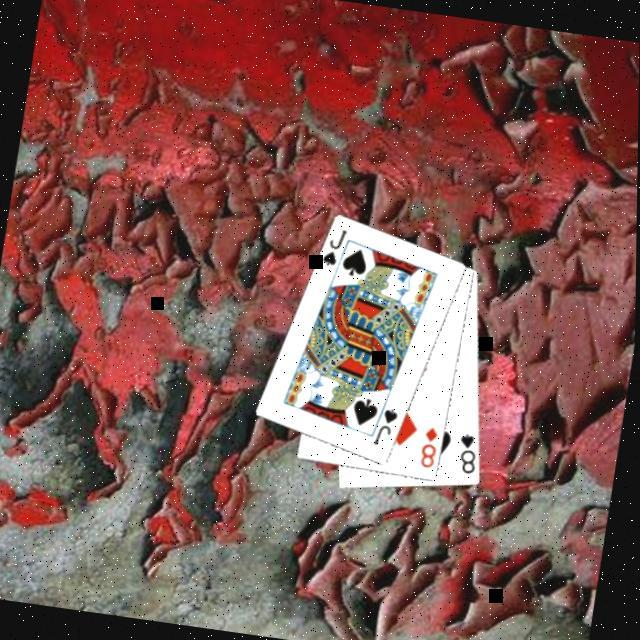8D: (419, 422, 446, 471)
8S: (456, 428, 487, 477)
JS: (373, 402, 406, 449), (321, 222, 354, 269)
